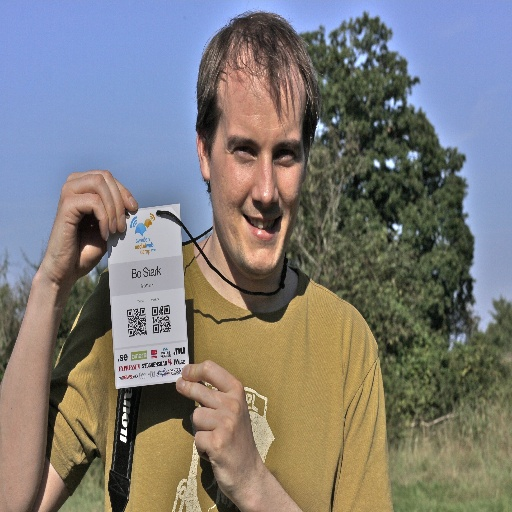hand: (177, 361, 268, 491), (40, 170, 138, 290)
